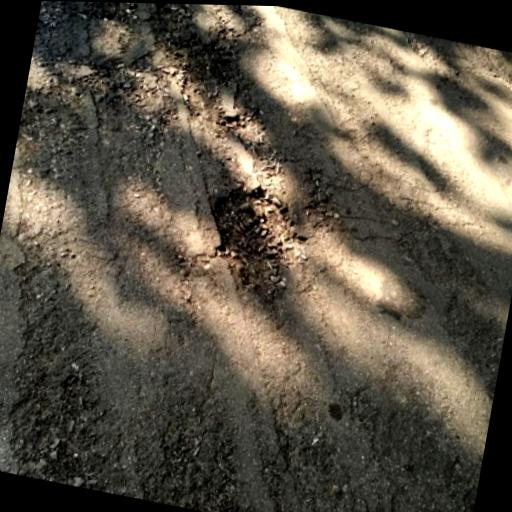pothole: (194, 179, 316, 297)
